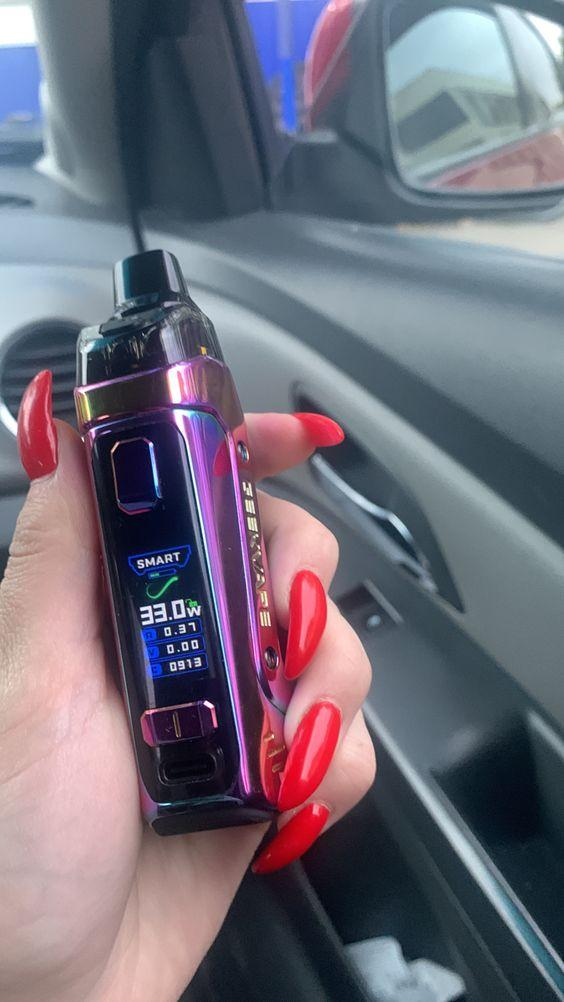Vape: (76, 250, 285, 833)
